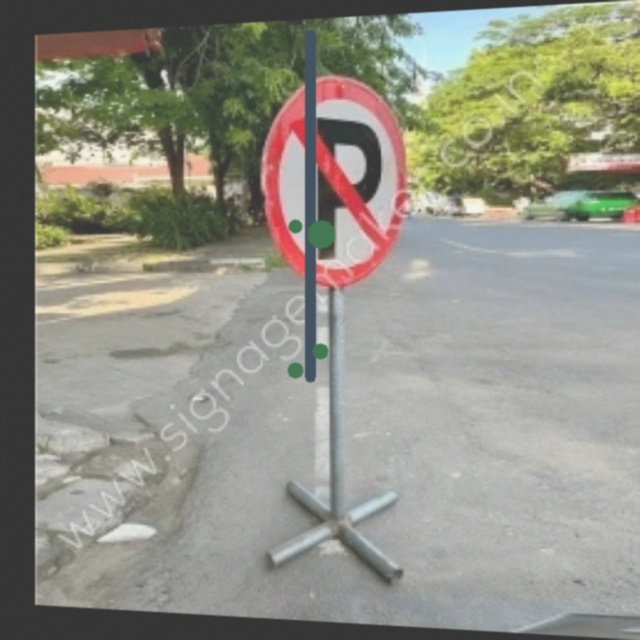No_Parking: (264, 70, 410, 288)
